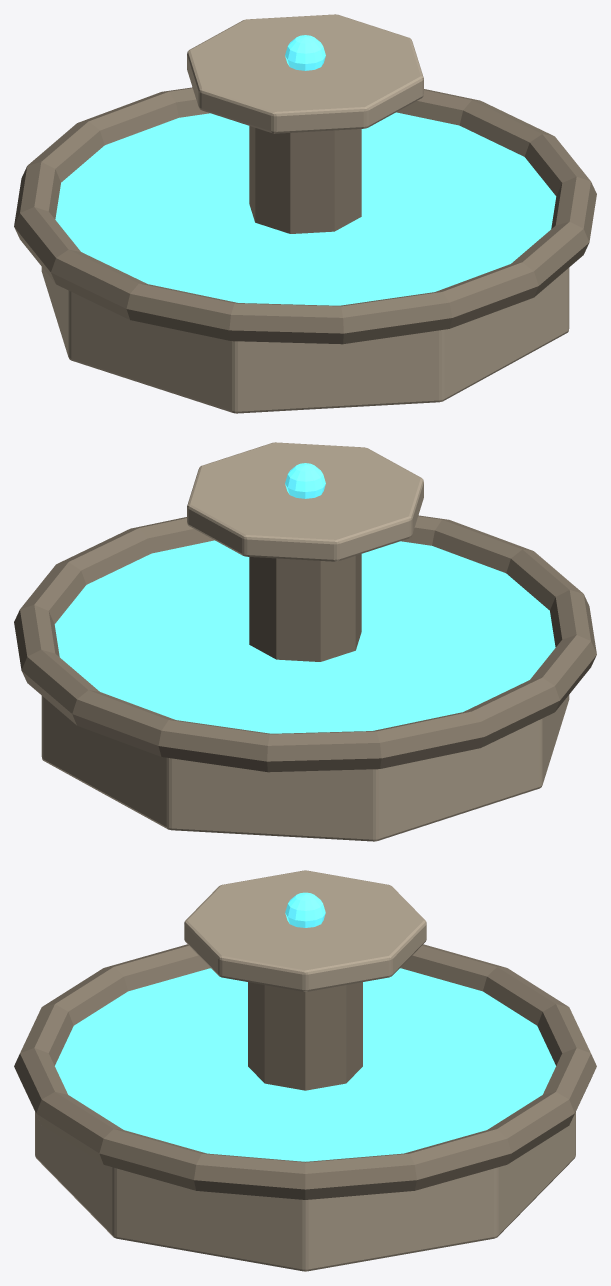
File: SM_KochbrunnenBecken.glb
The picture shows the model from 3 angles, top to bottom: view 1: azimuth 30°, elevation 25°; view 2: azimuth 150°, elevation 25°; view 3: azimuth 270°, elevation 25°; orthographic projection.
Parts seen in each view (by area): view 1: SM_KochbrunnenBecken; view 2: SM_KochbrunnenBecken; view 3: SM_KochbrunnenBecken.
Part boxes in pixels (left/top/right/bottom): SM_KochbrunnenBecken: left=14, top=14, right=596, bottom=413; SM_KochbrunnenBecken: left=14, top=442, right=596, bottom=841; SM_KochbrunnenBecken: left=14, top=870, right=596, bottom=1271.
Size of what is drawn, in the model's own units: 3.44 by 1.72 by 3.44.
